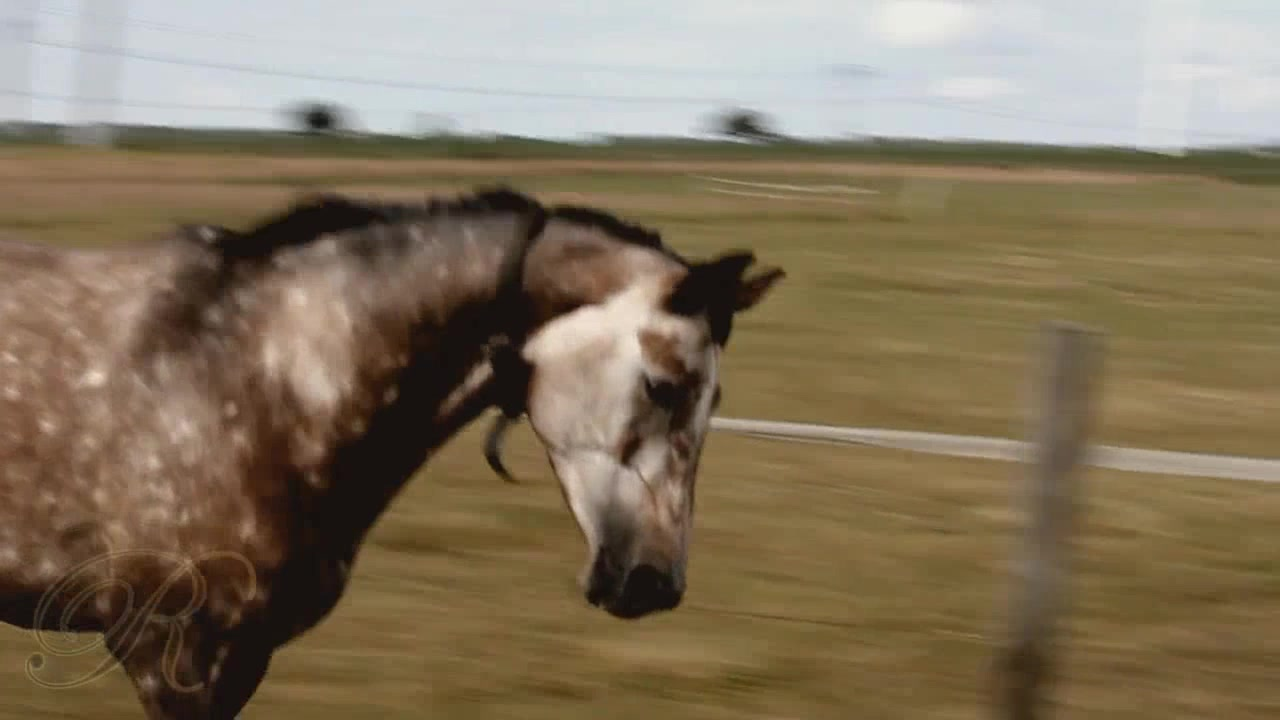horse: (1, 183, 794, 720)
